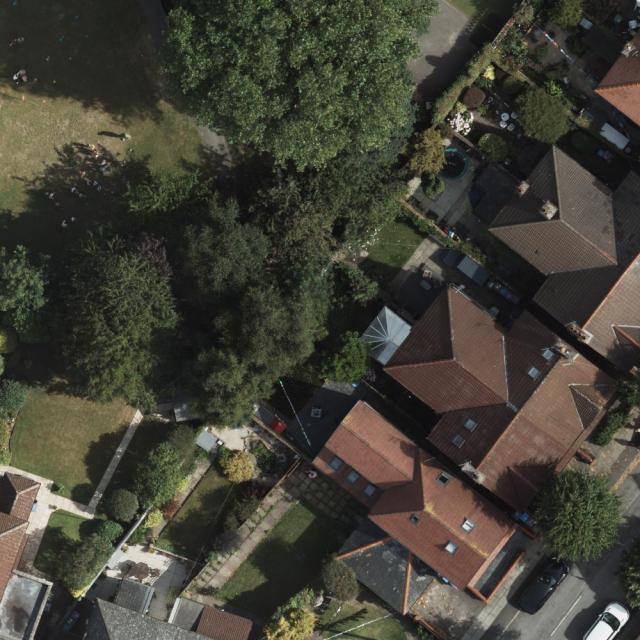roof: (312, 148, 640, 616), (80, 575, 263, 640), (0, 469, 55, 640), (596, 35, 640, 129)
skylight: (355, 307, 414, 365), (327, 455, 346, 474), (443, 541, 460, 557), (345, 470, 362, 485), (460, 519, 477, 534), (436, 472, 452, 487), (464, 417, 479, 433), (363, 483, 378, 498), (451, 433, 466, 448), (527, 365, 542, 380), (407, 512, 421, 527), (542, 347, 555, 360)
